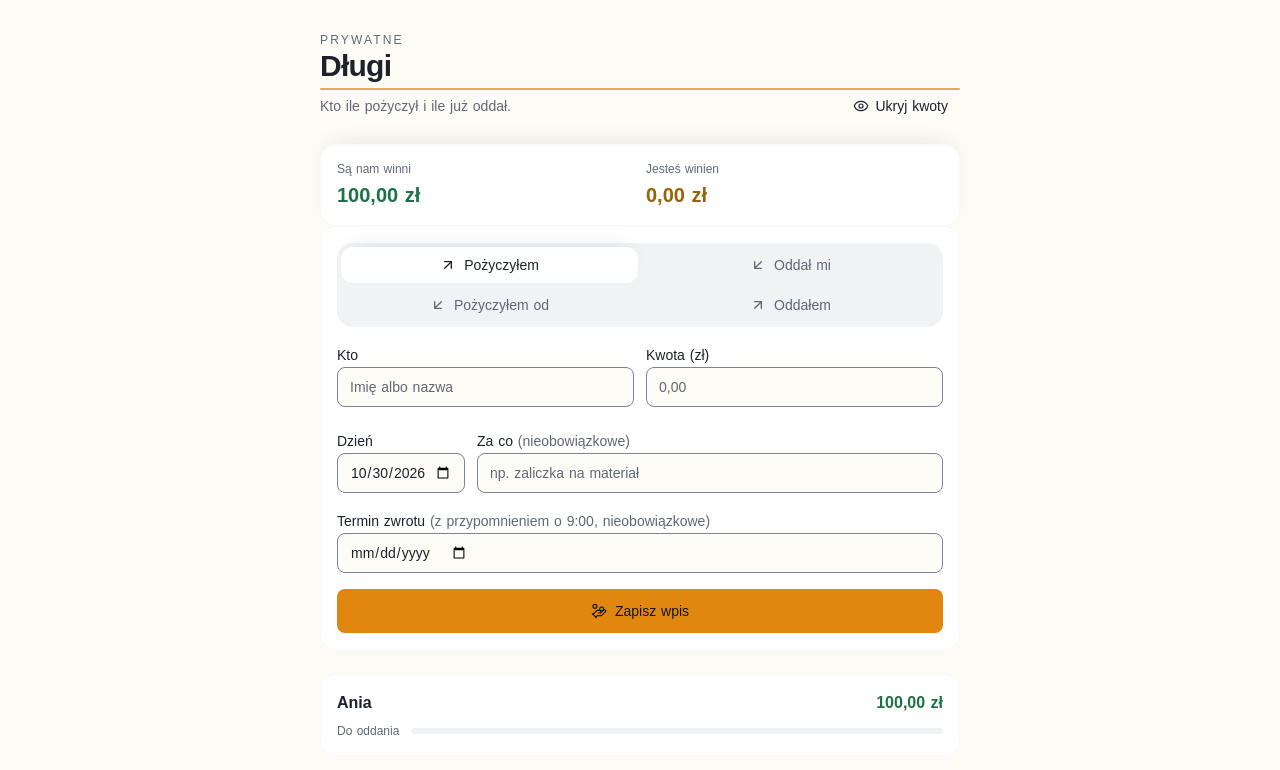
Test case: DebtsView — edycja wpisu › zła kwota blokuje zapis i pokazuje komunikat
Step 1. Click the button "Ania 100,00 zł Do oddania" → (354, 702), box [320,674,960,756]
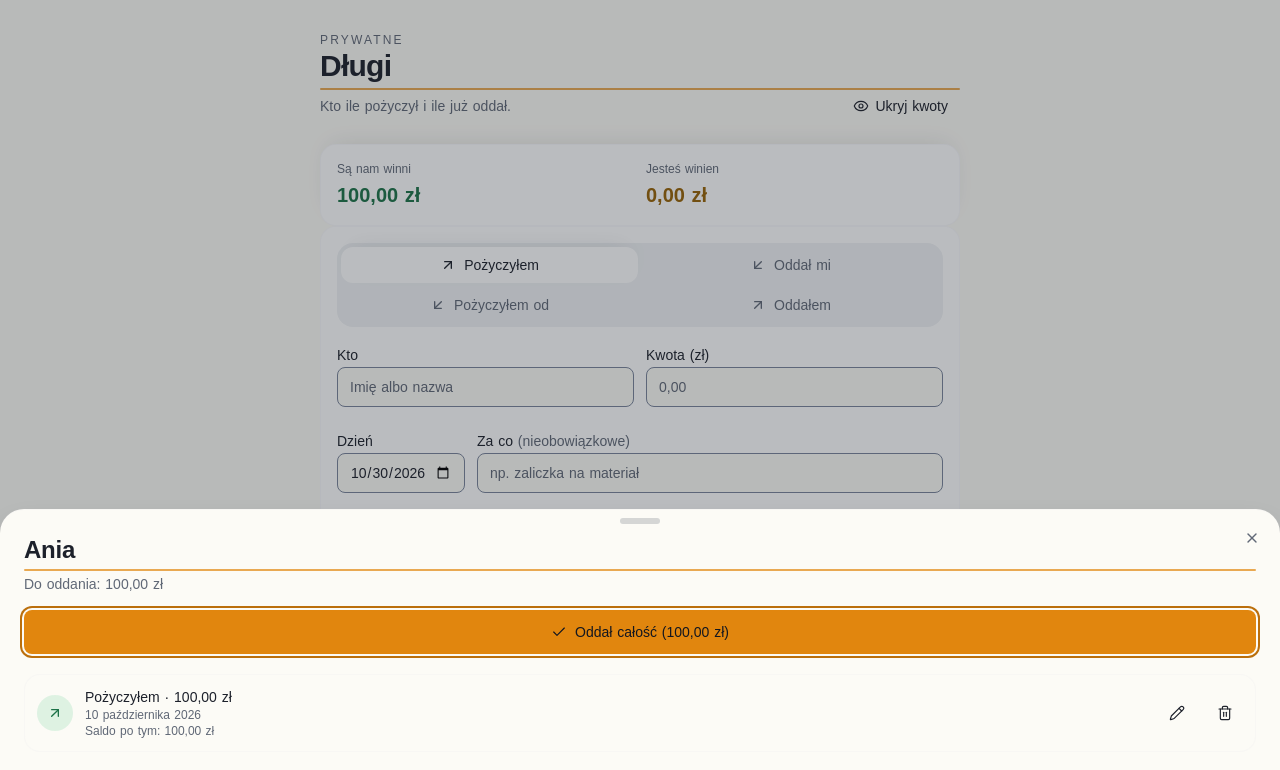
Step 2. Click the button named "Edytuj wpis" → (1177, 713), box [1159,695,1195,731]
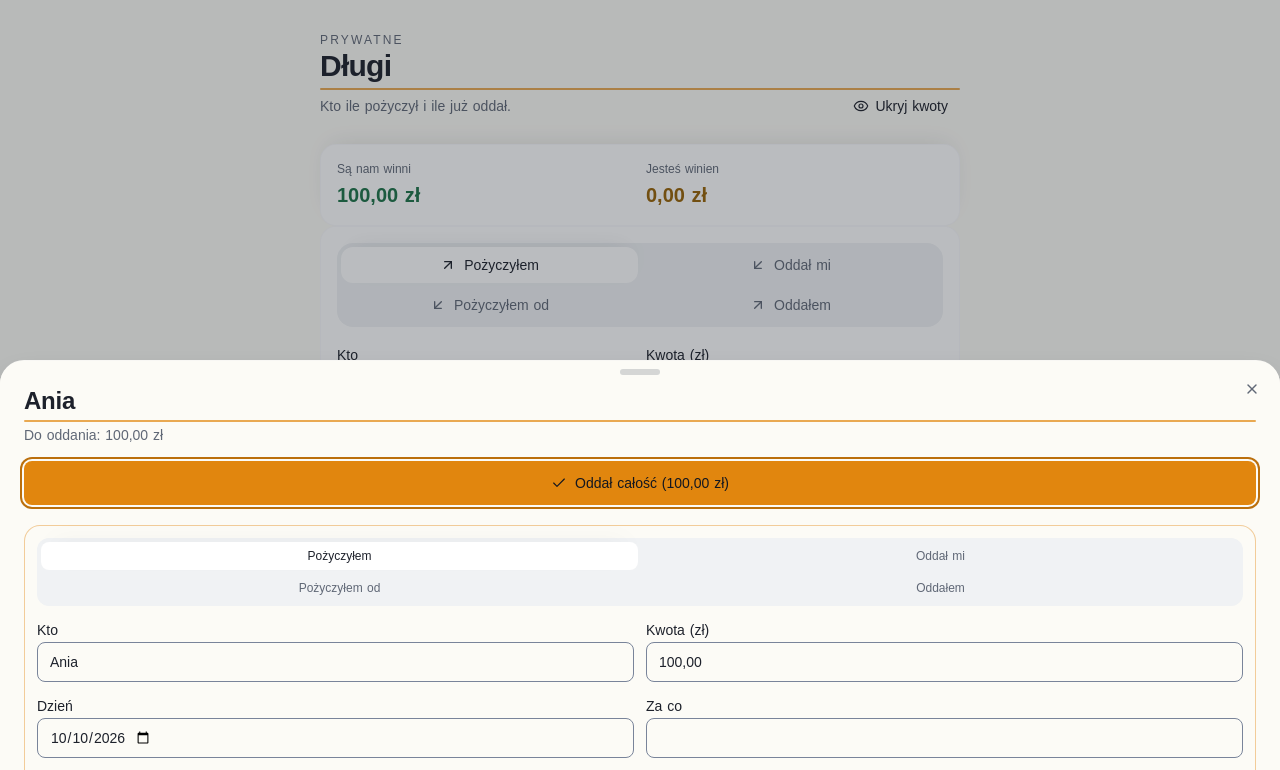
Step 3. Replace the text in the field labelled "Kwota (zł)" with "dużo" → (944, 662), box [646,642,1243,682]
(page scrolled)
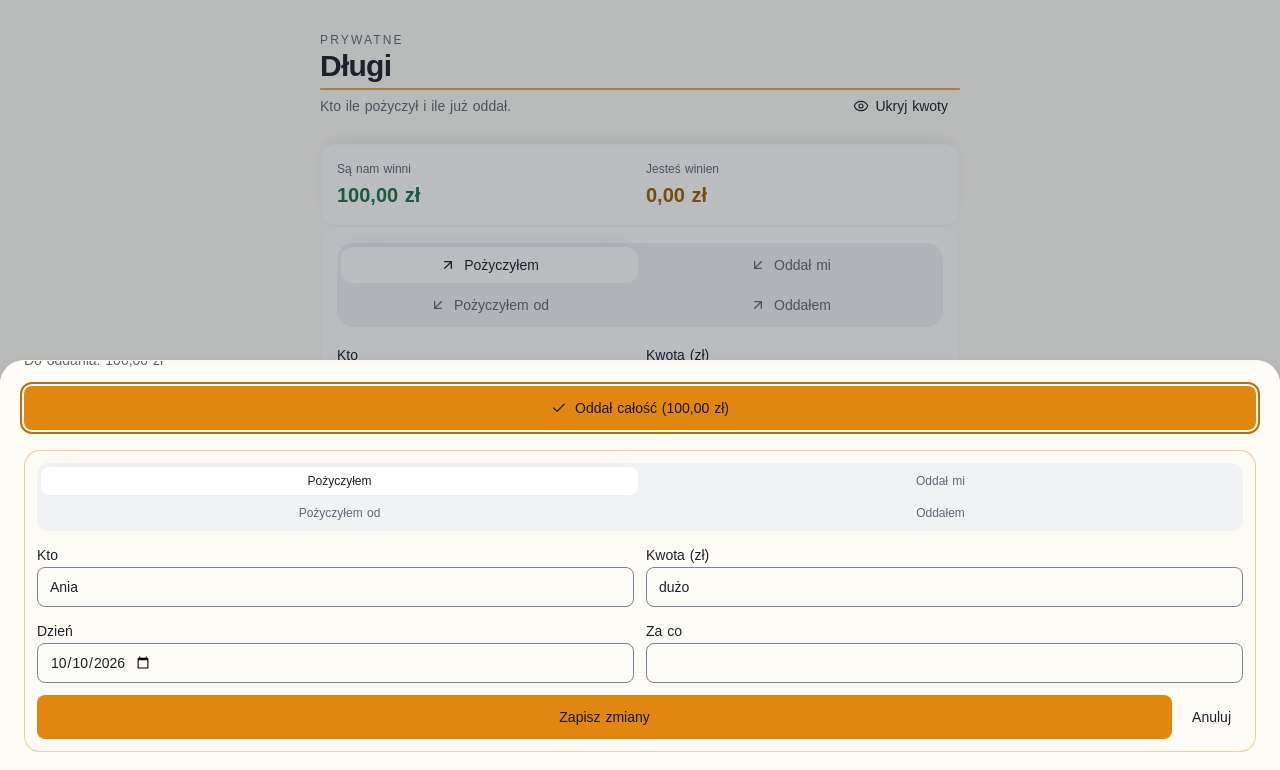
Step 4. Click the button "Zapisz zmiany" → (605, 717), box [37,695,1172,739]
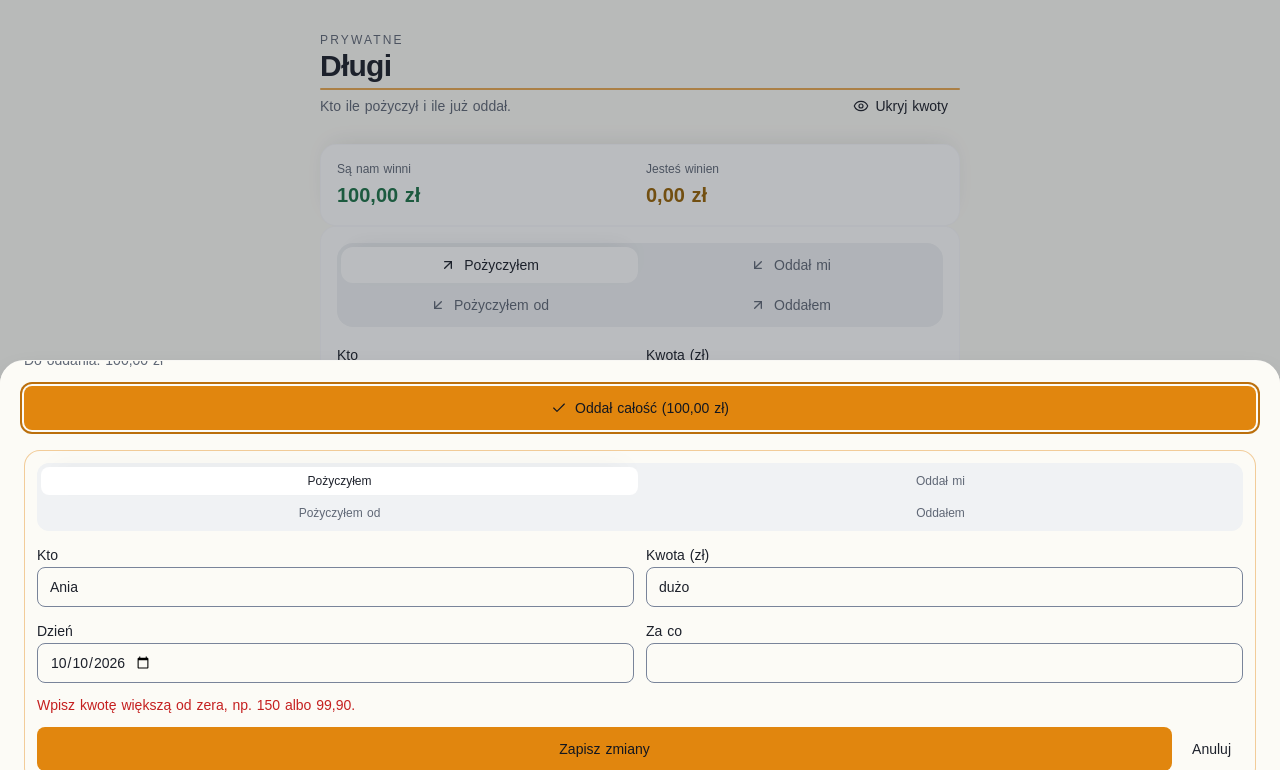
Expected: the message shows "kwotę większą od zera", [37,697,355,713]
